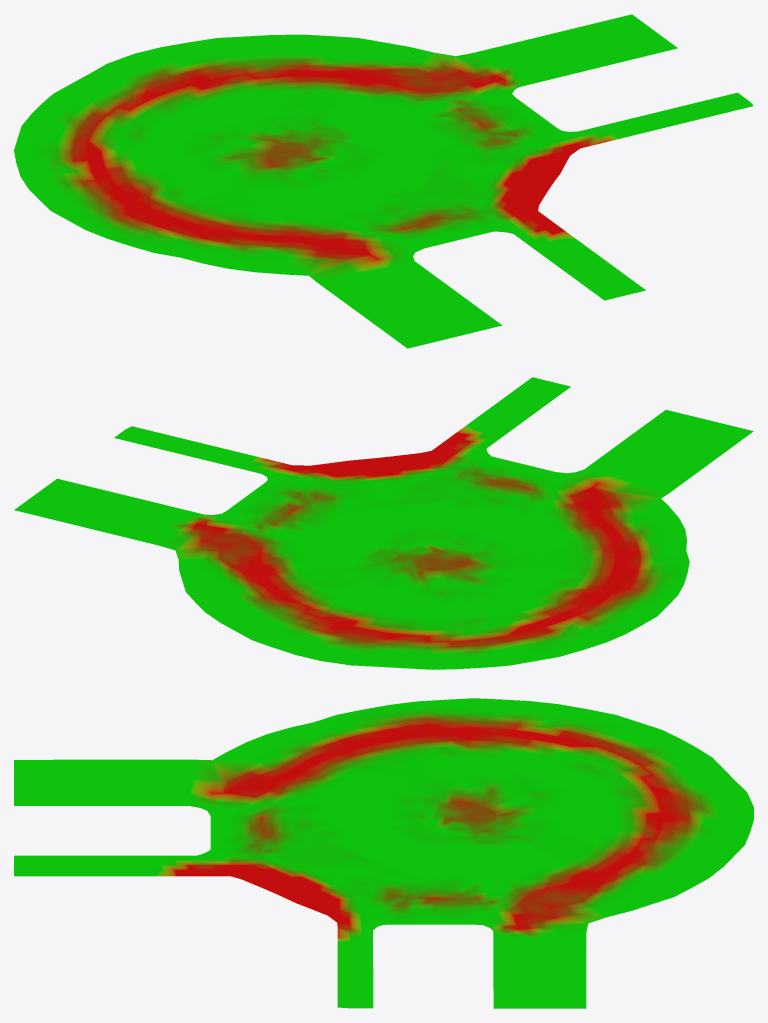
Rendered from pref_sm_garden_terrain_yellowgrass02b_lv3.fbx.
3 views of the same model, one above another, from view 1: azimuth 30°, elevation 25°; view 2: azimuth 150°, elevation 25°; view 3: azimuth 270°, elevation 25° (orthographic). The views are drawn at different scales.
Parts seen in each view (by area): view 1: pref_sm_garden_terrain_yellowgrass02b_lv3; view 2: pref_sm_garden_terrain_yellowgrass02b_lv3; view 3: pref_sm_garden_terrain_yellowgrass02b_lv3.
Boxes of the visible parts, x1,y1,x2,y2 form: pref_sm_garden_terrain_yellowgrass02b_lv3: [14, 14, 753, 348]; pref_sm_garden_terrain_yellowgrass02b_lv3: [14, 377, 753, 669]; pref_sm_garden_terrain_yellowgrass02b_lv3: [14, 698, 753, 1008].
Bounding box in the file's own units: 50.87 × 0.000481 × 51.22.
